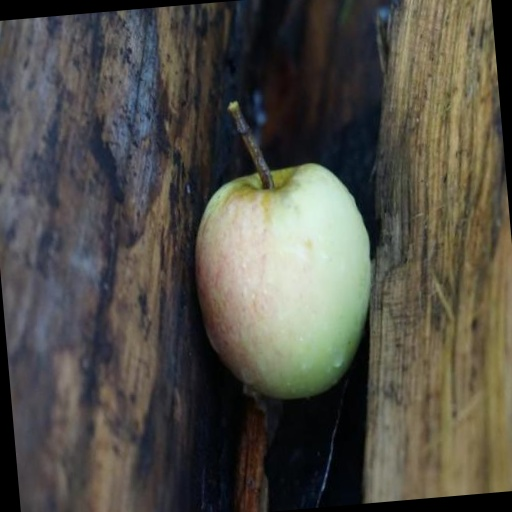fruit: (221, 176, 447, 512)
